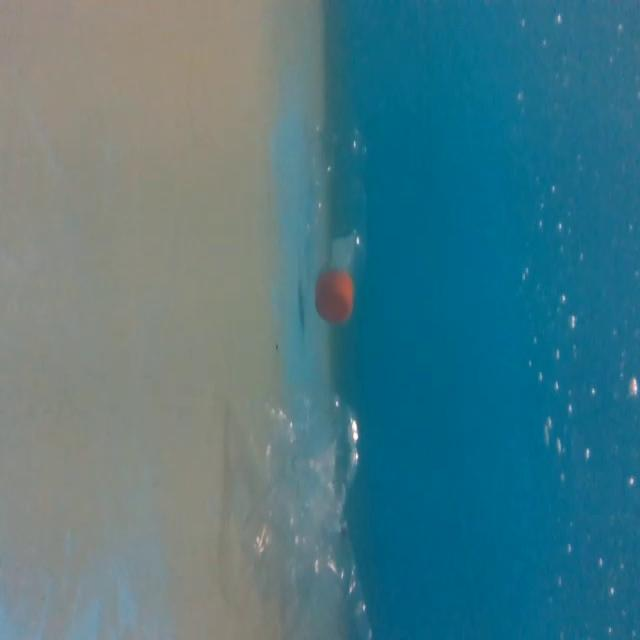plastic bottle: (225, 382, 377, 640), (297, 118, 379, 330)
